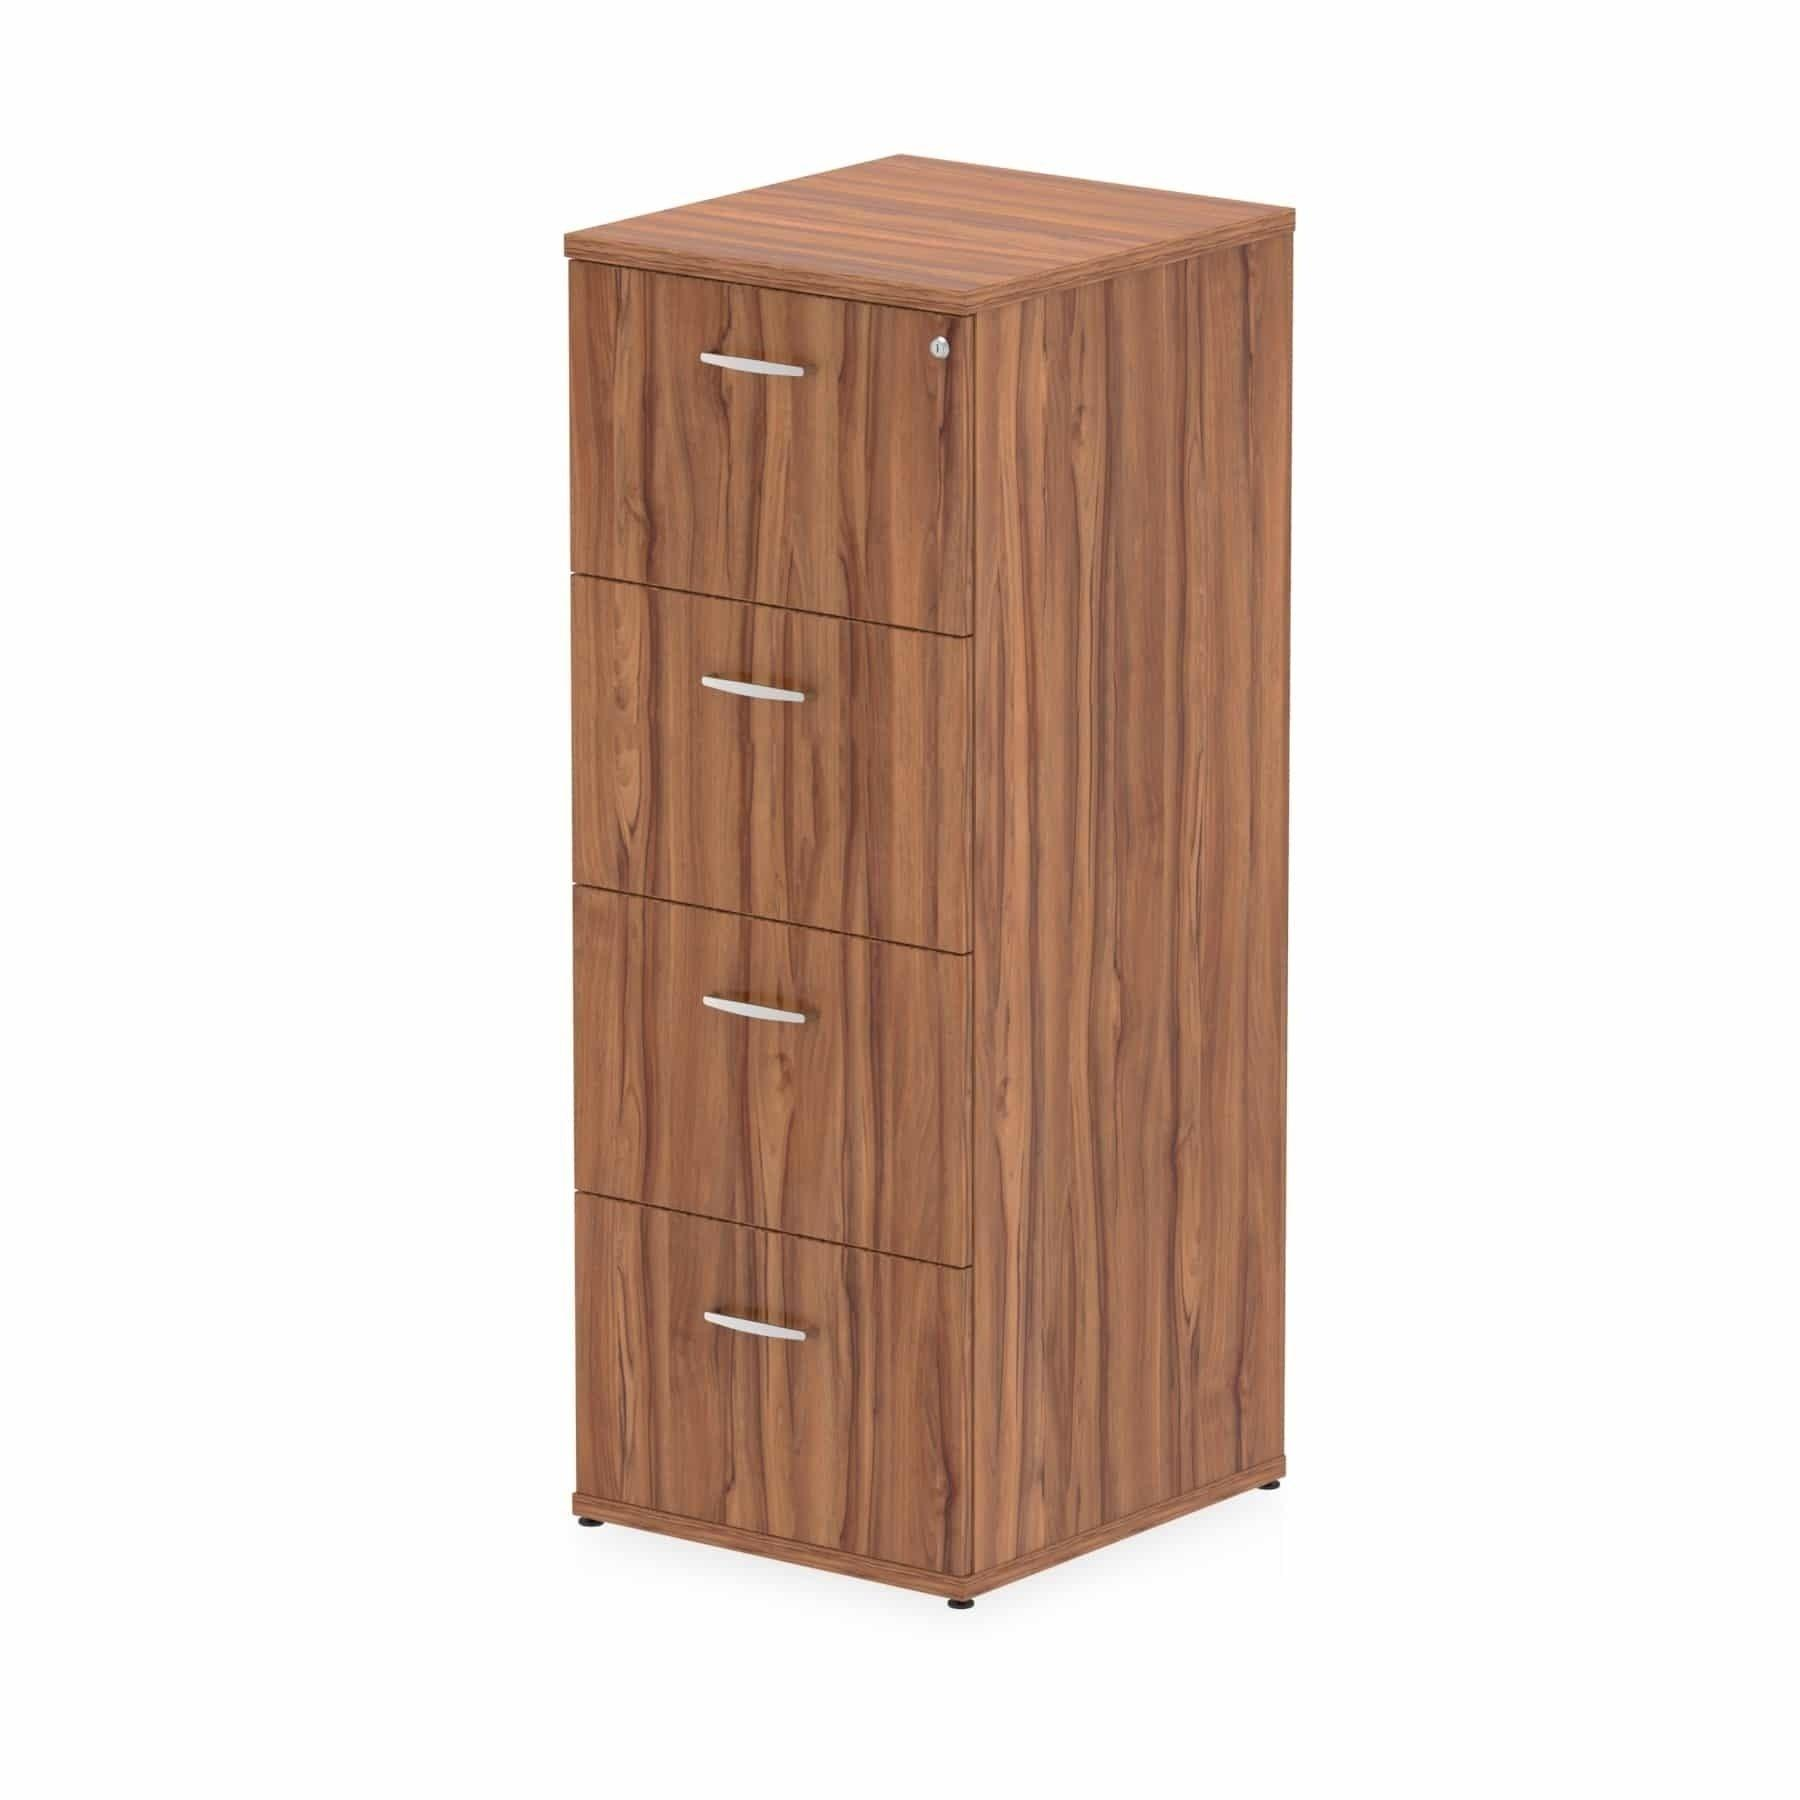cabinet_door: (572, 613, 973, 905), (582, 1221, 973, 1516), (575, 936, 969, 1228), (582, 303, 969, 593)
handle: (699, 1296, 819, 1358), (694, 979, 814, 1038), (692, 340, 818, 396), (696, 663, 814, 720)
